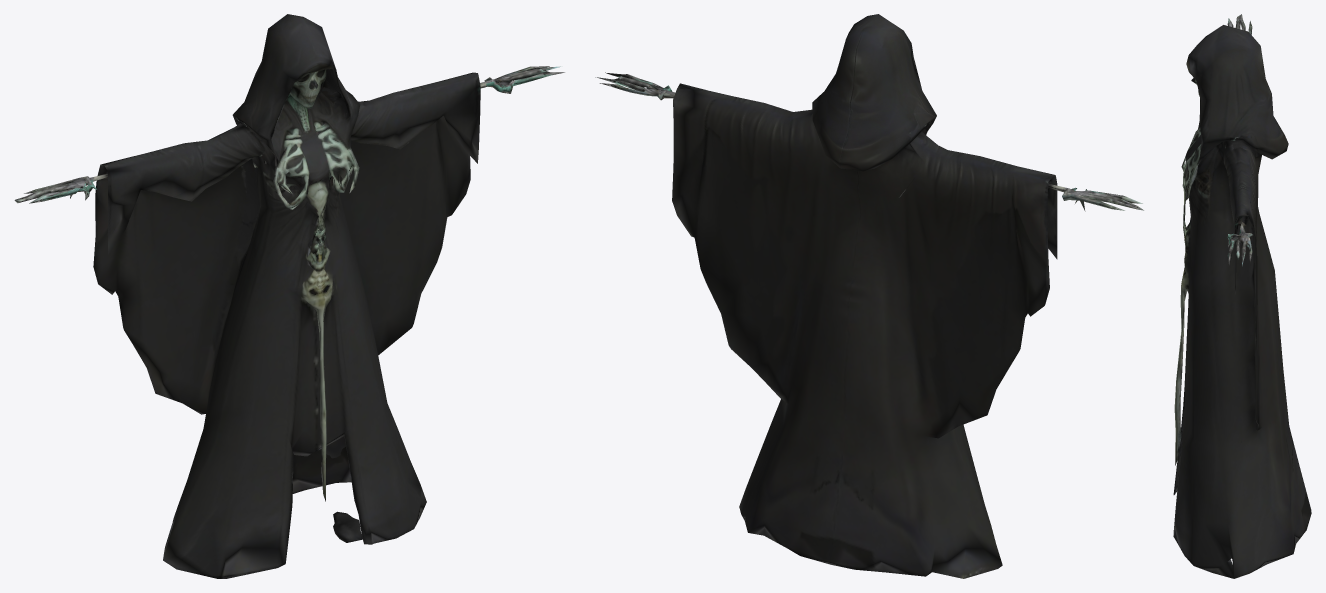
The model's file is Meshy_AI_necromancer_high_pol_0324084514_texture.glb.
3 renders of one model, left to right at view 1: azimuth 30°, elevation 25°; view 2: azimuth 150°, elevation 25°; view 3: azimuth 270°, elevation 25°, orthographic. The views are drawn at different scales.
Bounding box in the file's own units: 1.92 × 1.76 × 0.4429.
Materials: 1 (1 with a texture image).
